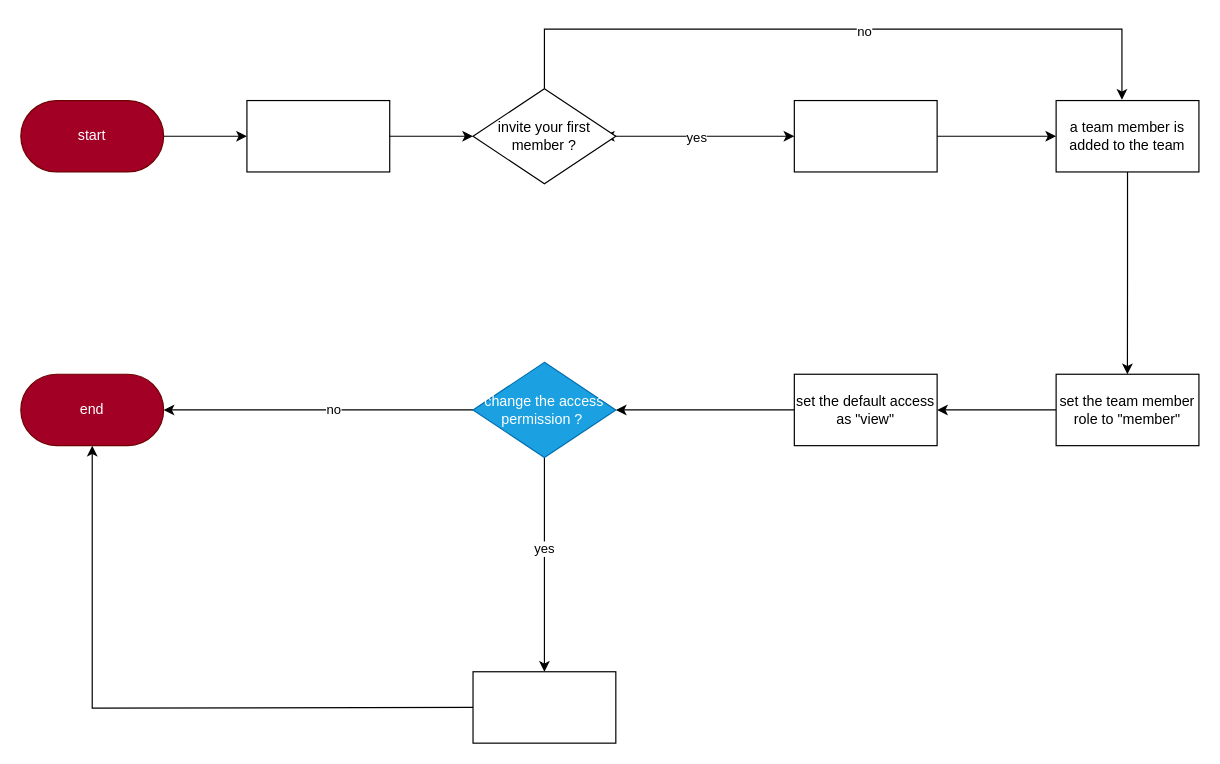
The diagram is 1220 pixels wide and 764 high, and some of its shapes have lost their labels. The centre of each missing label's shape, as x and y in pixels:
"change permission" goes at point (544, 707).
"create the team with the specified team name" goes at point (865, 135).
"enter /settings/member" goes at point (318, 135).
